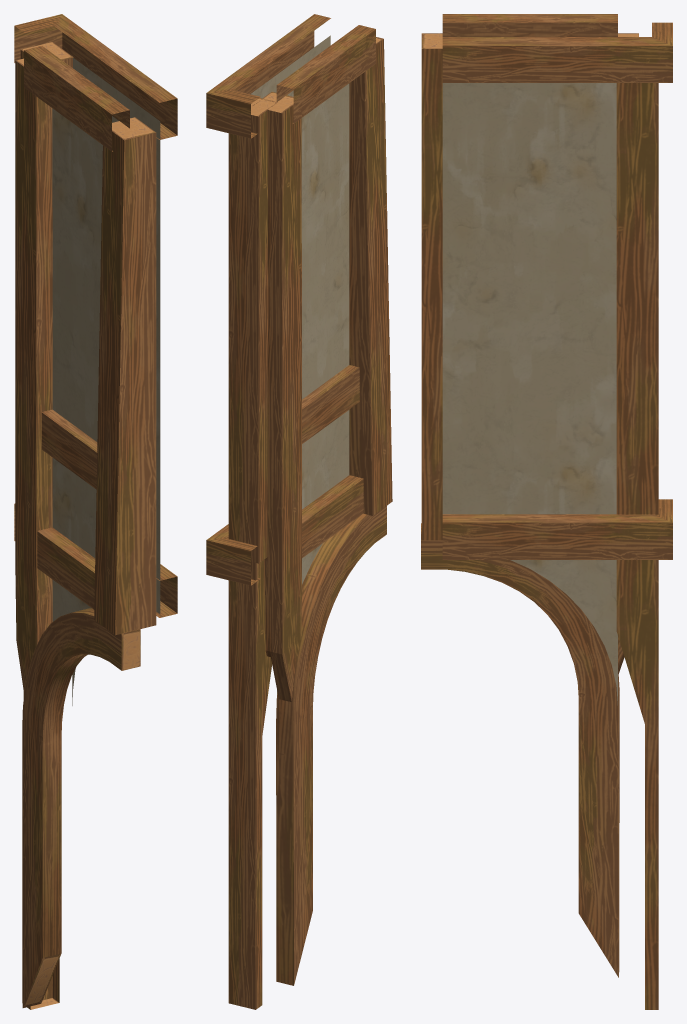
Rendered from overhang_side_plaster_short_l.gltf.
3 renders of one model, left to right at view 1: azimuth 30°, elevation 25°; view 2: azimuth 150°, elevation 25°; view 3: azimuth 270°, elevation 25°, orthographic. The views are drawn at different scales.
Visible parts, largest first — view 1: Overhang_Side_Plaster_Short_L; view 2: Overhang_Side_Plaster_Short_L; view 3: Overhang_Side_Plaster_Short_L.
Part boxes in pixels (x1,y1,x2,y2): Overhang_Side_Plaster_Short_L: (14, 14, 177, 1009); Overhang_Side_Plaster_Short_L: (206, 14, 392, 1009); Overhang_Side_Plaster_Short_L: (421, 14, 672, 1009).
Size of the model in its own units: 0.4793 by 6.12 by 1.44.
2 materials, 2 textured.
